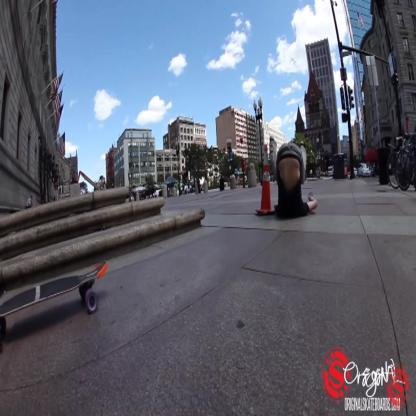Fall_Down: (269, 134, 318, 221)
